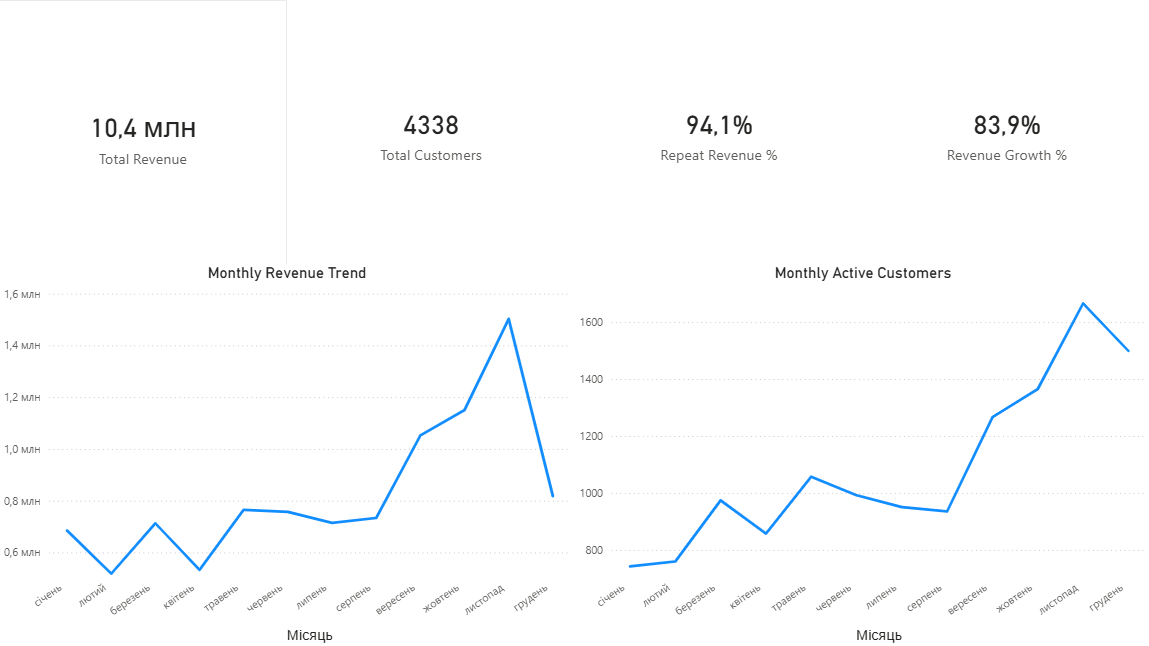

What the dashboard file says about the page in this screenshot:
{"tool":"powerbi","page":{"name":"Business Overview","canvas":[1280,720],"ordinal":0},"visuals":[{"type":"card","fields":{"Values":["Avg Retention by Month.Total Revenue"]},"box":[0,0,320,302.5],"z":0},{"type":"card","fields":{"Values":["Avg Retention by Month.Revenue Growth %"]},"box":[960,0,320,293.8],"z":1000},{"type":"card","fields":{"Values":["Avg Retention by Month.Total Customers"]},"box":[320,0,320,293.8],"z":2000},{"type":"card","fields":{"Values":["Avg Retention by Month.Repeat Revenue %"]},"box":[640,0,320,293.8],"z":4000},{"type":"lineChart","title":"Monthly Revenue Trend","fields":{"Category":["Monthly Revenue Trend.month.Варіація.Ієрархія дат.Місяць"],"Y":["Sum(Monthly Revenue Trend.monthly_revenue)"]},"box":[0,293.8,640,426.2],"z":5000},{"type":"lineChart","title":"Monthly Active Customers","fields":{"Category":["mont actv cutm trend.month.Варіація.Ієрархія дат.Місяць"],"Y":["Sum(mont actv cutm trend.monthly_active_customers)"]},"box":[640,293.8,640,426.2],"z":6000}]}

Visuals, with their boxes in screenshot pixels (x1, y1, x2, y2), scaled from the page's 1280x720 canvas onto the 1149x646 screenshot:
card - Avg Retention by Month.Total Revenue: left=0, top=0, right=287, bottom=271
card - Avg Retention by Month.Revenue Growth %: left=862, top=0, right=1148, bottom=264
card - Avg Retention by Month.Total Customers: left=287, top=0, right=574, bottom=264
card - Avg Retention by Month.Repeat Revenue %: left=574, top=0, right=862, bottom=264
"Monthly Revenue Trend" lineChart: left=0, top=264, right=574, bottom=645
"Monthly Active Customers" lineChart: left=574, top=264, right=1148, bottom=645
